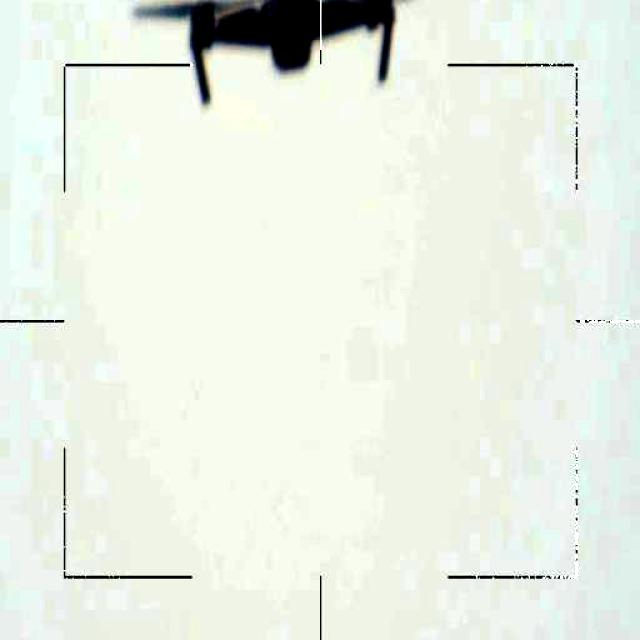bird: (128, 0, 434, 114)
